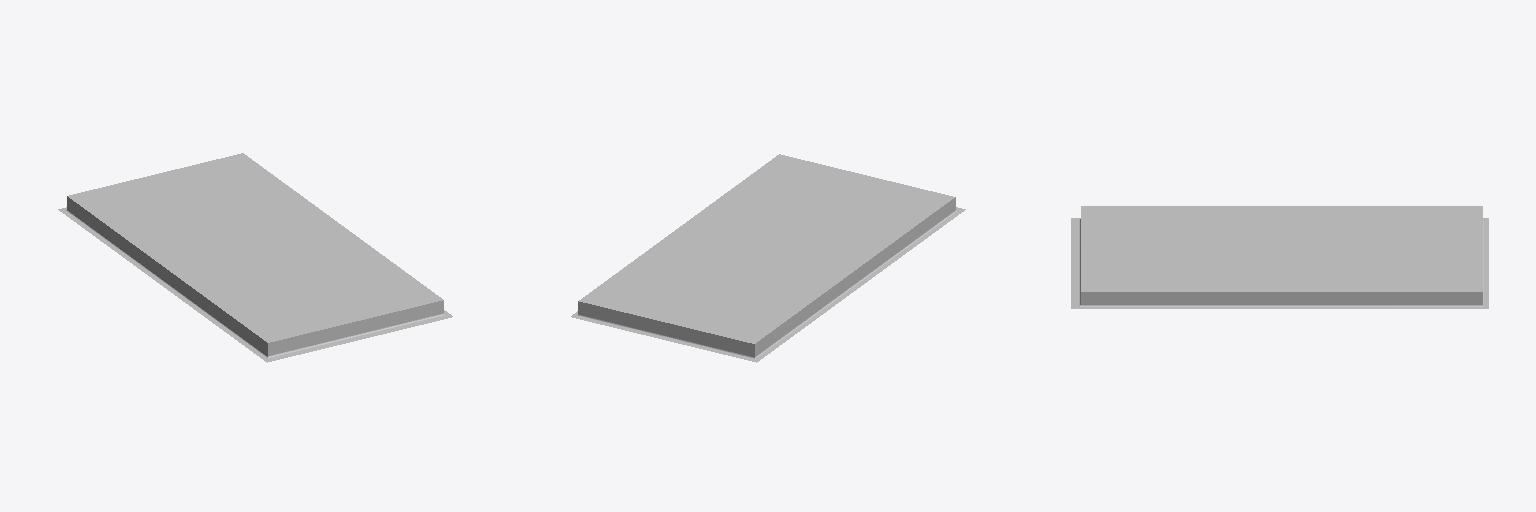
The model's file is CELLING.obj.
3 views of the same model, side by side, from view 1: azimuth 30°, elevation 25°; view 2: azimuth 150°, elevation 25°; view 3: azimuth 270°, elevation 25° (orthographic).
Visible parts, largest first — view 1: Cube_Cube.001; view 2: Cube_Cube.001; view 3: Cube_Cube.001.
Part boxes in pixels (left/top/right/bottom): Cube_Cube.001: left=58, top=153, right=452, bottom=362; Cube_Cube.001: left=571, top=154, right=965, bottom=362; Cube_Cube.001: left=1071, top=206, right=1488, bottom=308.
Bounding box in the file's own units: 3.3 × 0.247 × 6.4.